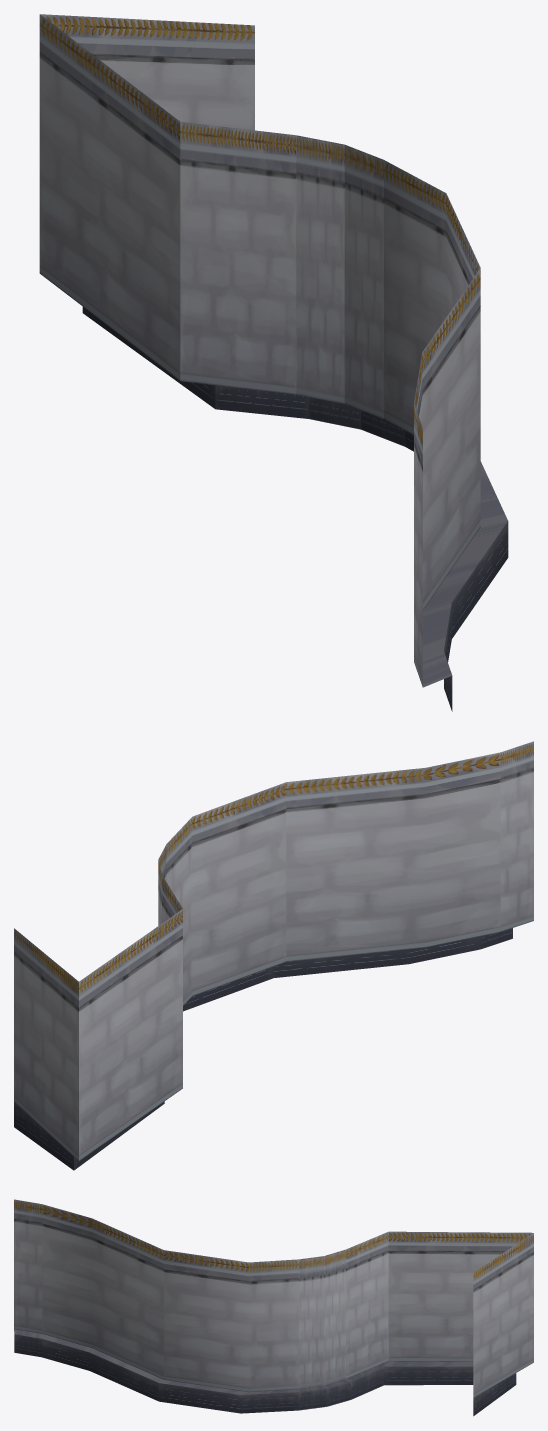
Rendered from Virgo_std_walls.fbx.
The picture shows the model from 3 angles, top to bottom: view 1: azimuth 30°, elevation 25°; view 2: azimuth 150°, elevation 25°; view 3: azimuth 270°, elevation 25°; orthographic projection. The views are drawn at different scales.
Visible parts, largest first — view 1: polySurface9; view 2: polySurface9; view 3: polySurface9.
Boxes of the visible parts, x1=… form: polySurface9: x1=39, y1=14, x2=508, y2=711; polySurface9: x1=14, y1=741, x2=533, y2=1170; polySurface9: x1=14, y1=1199, x2=533, y2=1416.
Bounding box in the file's own units: 8.21 × 7.87 × 25.39.
